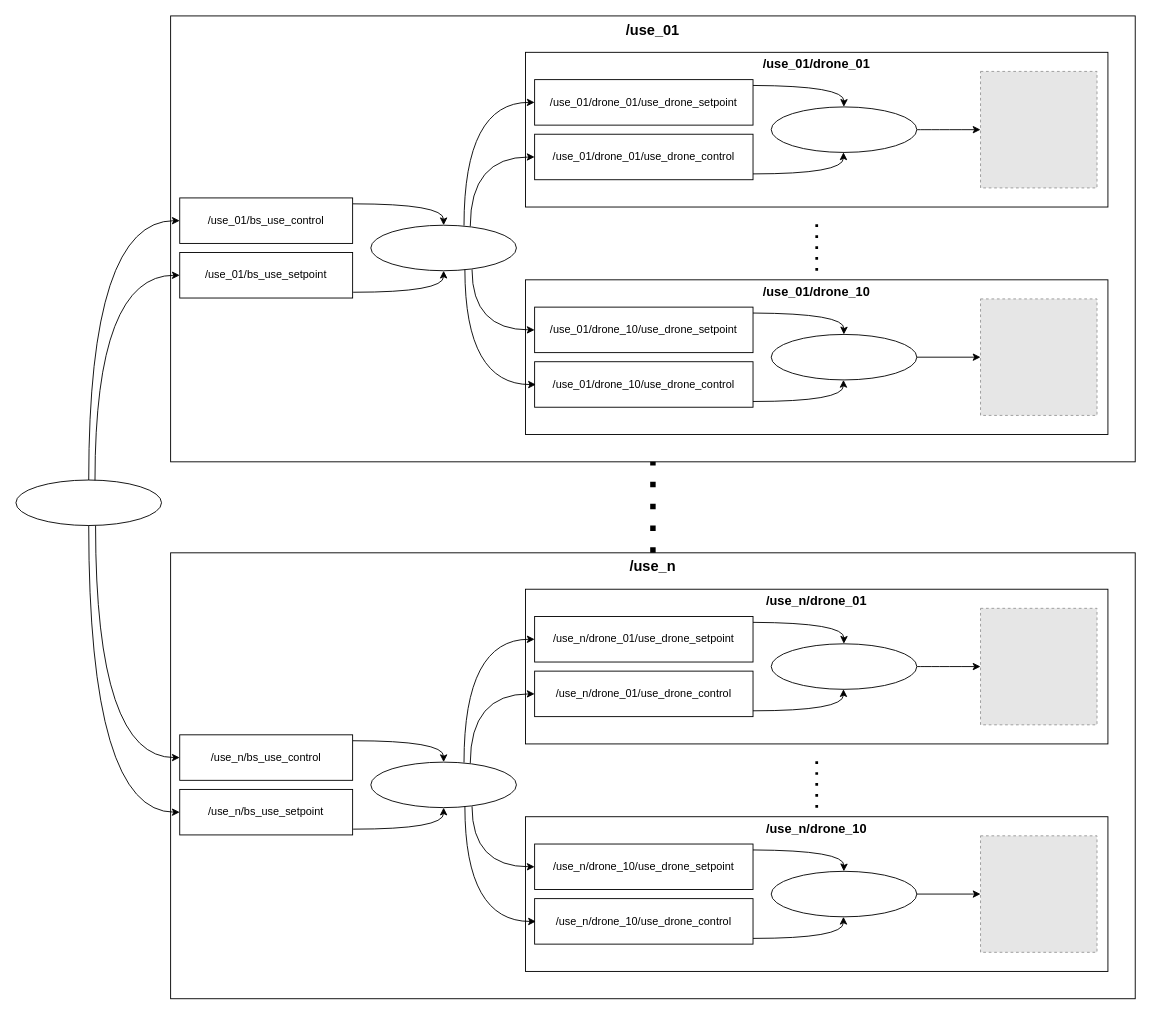
The diagram is 1151 pixels wide and 1015 high, and some of its shapes have lost their labels. Grey dashed boxes stand in for pictures. Each missing label, with the centre of its shape:
"/bs_drone_control" goes at (x=88, y=502).
"/use_01/drone_01/drone_offboard_control" goes at (x=843, y=129).
"/use_01/drone_10/drone_offboard_control" goes at (x=843, y=357).
"/use_01/use_transfer" goes at (x=443, y=247).
"/use_n/drone_01/drone_offboard_control" goes at (x=843, y=666).
"/use_n/drone_10/drone_offboard_control" goes at (x=843, y=893).
"/use_n/use_transfer" goes at (x=443, y=784).
